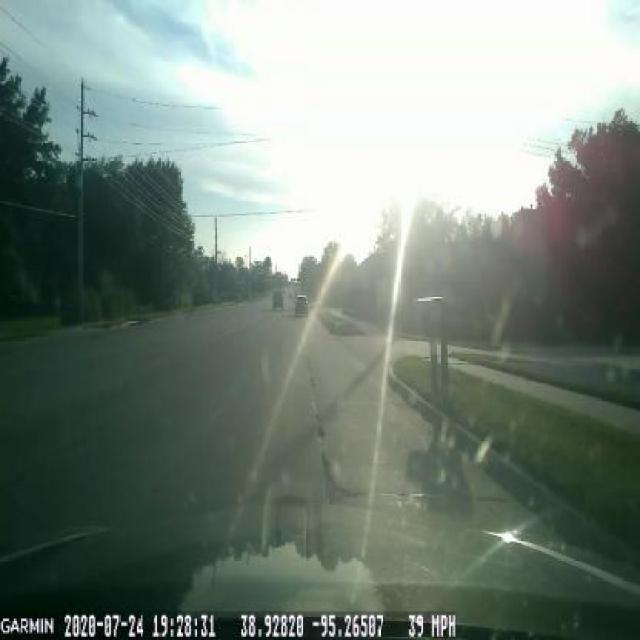Pothole: (318, 452, 373, 506)
